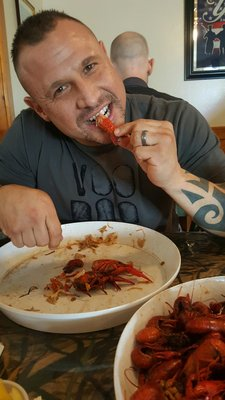sushi: (0, 223, 182, 335), (113, 275, 225, 400)
